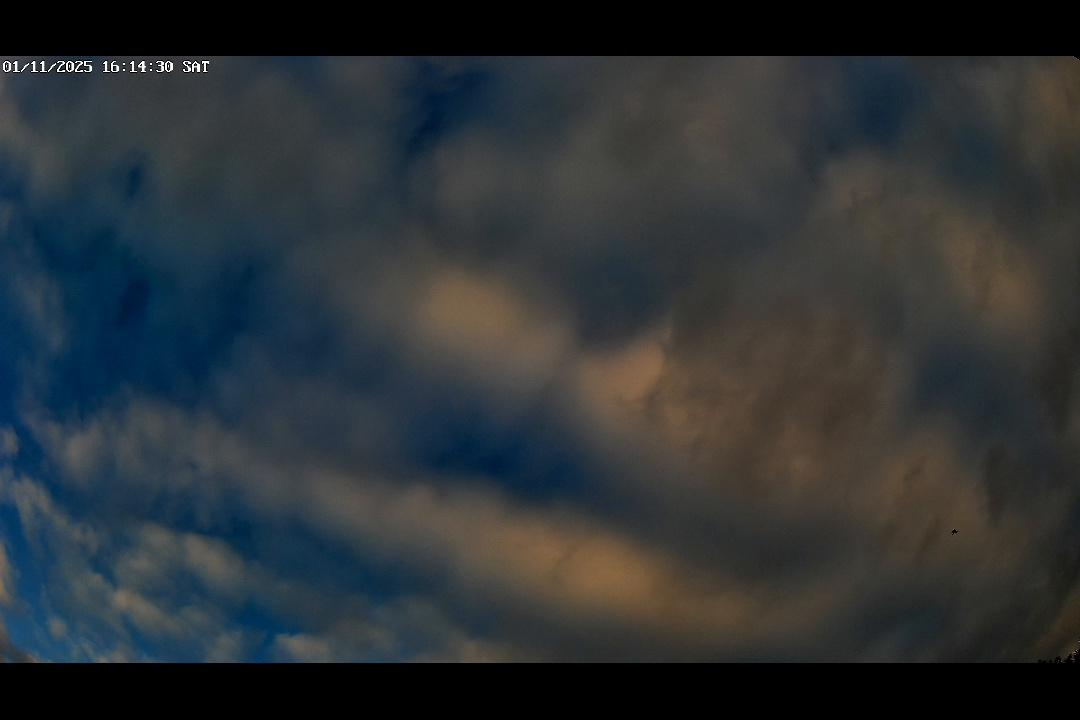Plane: (944, 526, 965, 537)
